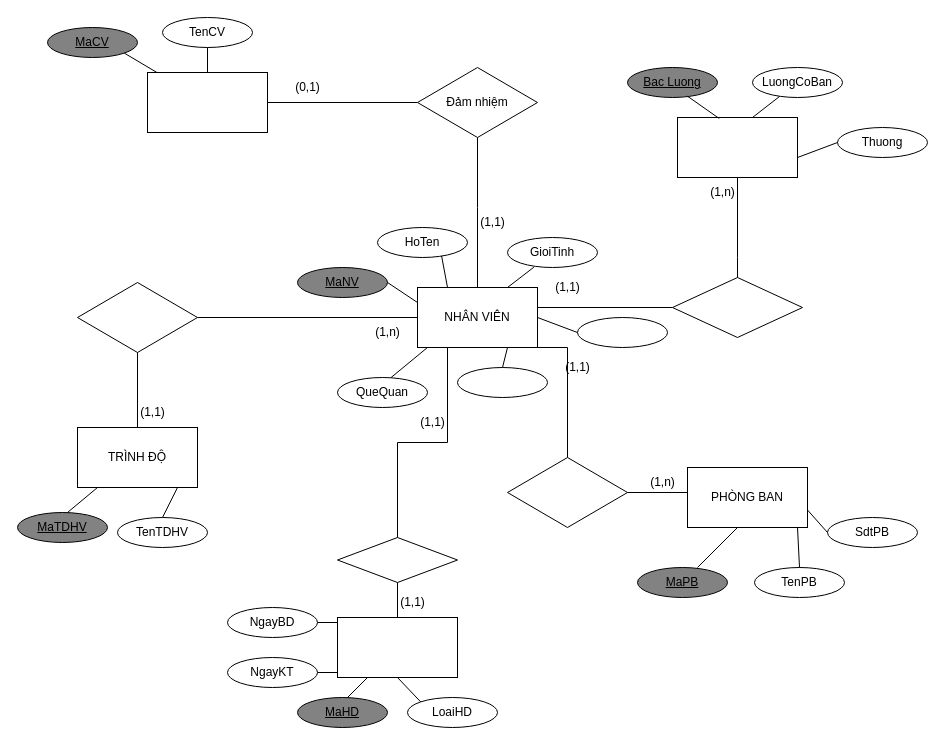
The diagram is 945 pixels wide and 745 high, and some of its shapes have lost their labels. The shapes that lost their labels are listed below. From the top down, each one's centre as x and y in pixels, then its label:
At (207,102): "CHỨC VỤ".
At (737,147): "LƯƠNG".
At (137,317): "Đạt".
At (737,307): "Hưởng".
At (622,332): "NgaySinh".
At (502,382): "SoDienThoai".
At (567,492): "Thuộc".
At (397,559): "Có".
At (397,647): "HỢP ĐỒNG LAO ĐỘNG".
